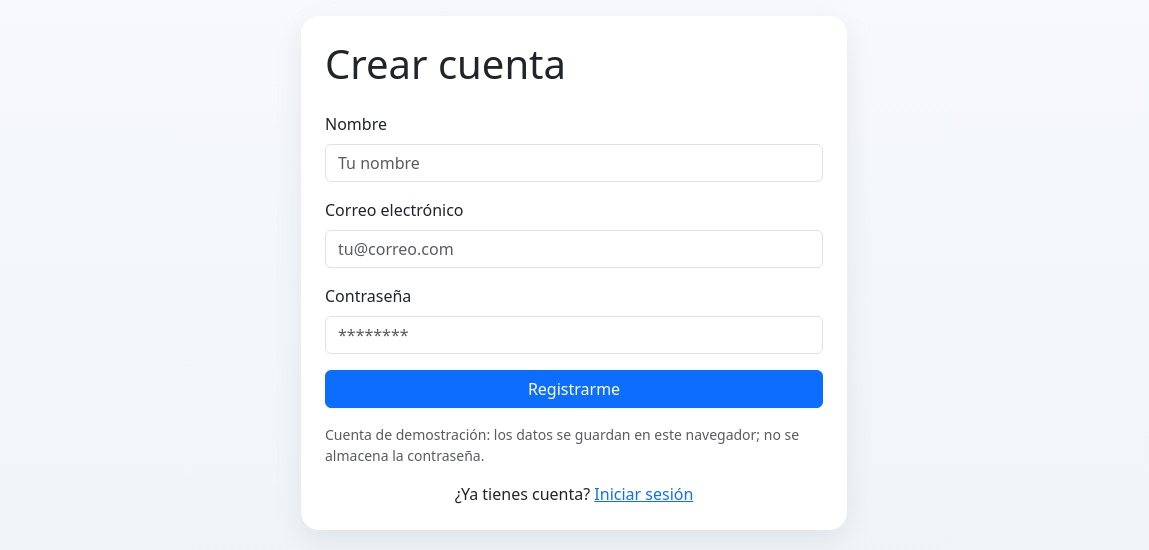
it: Flujos de cuenta, perfil y carrito › registra una cuenta demo y navega al perfil sin guardar la contraseña
Type "  Ana Demo  " into the field labelled "Nombre". click: (574, 163)
box: [325,144,823,182]
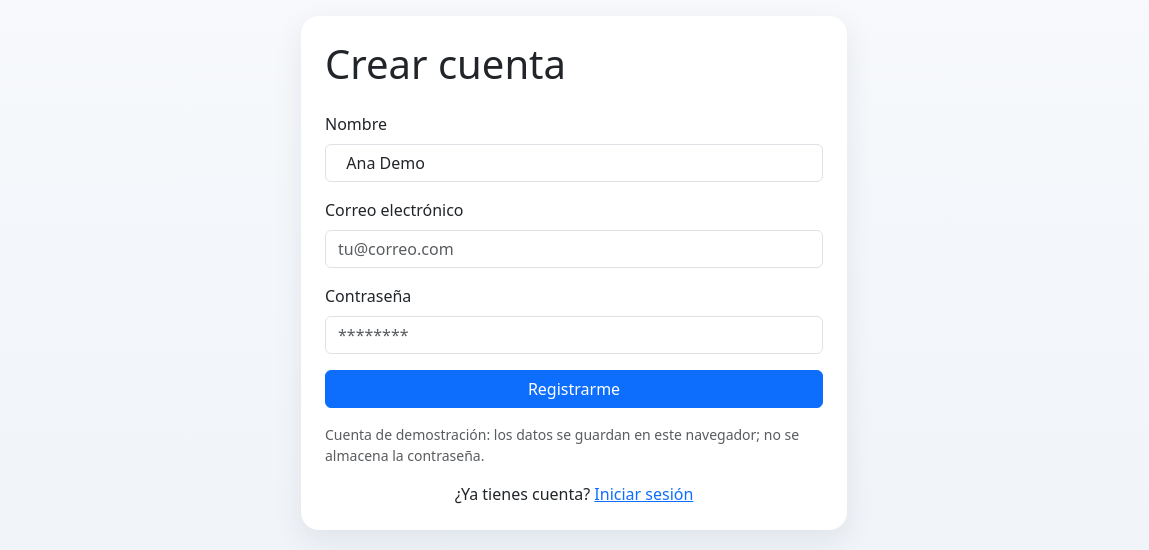
Type "ana@example.com" into the field labelled "Correo electrónico". click: (574, 249)
box: [325,230,823,268]
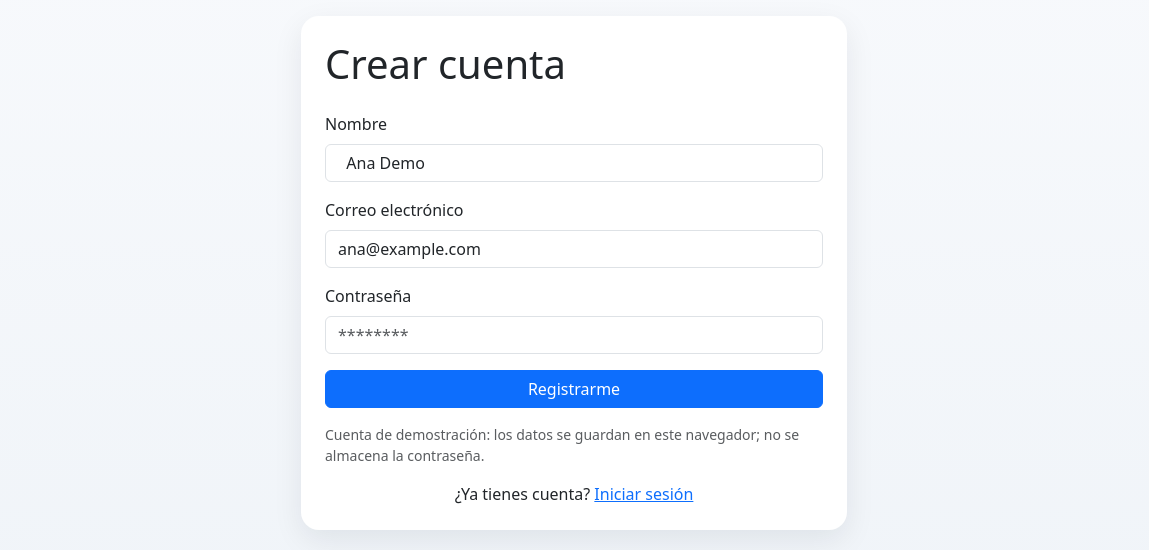
Type "clave-temporal" into the password field labelled "Contraseña". click: (574, 335)
box: [325,316,823,354]
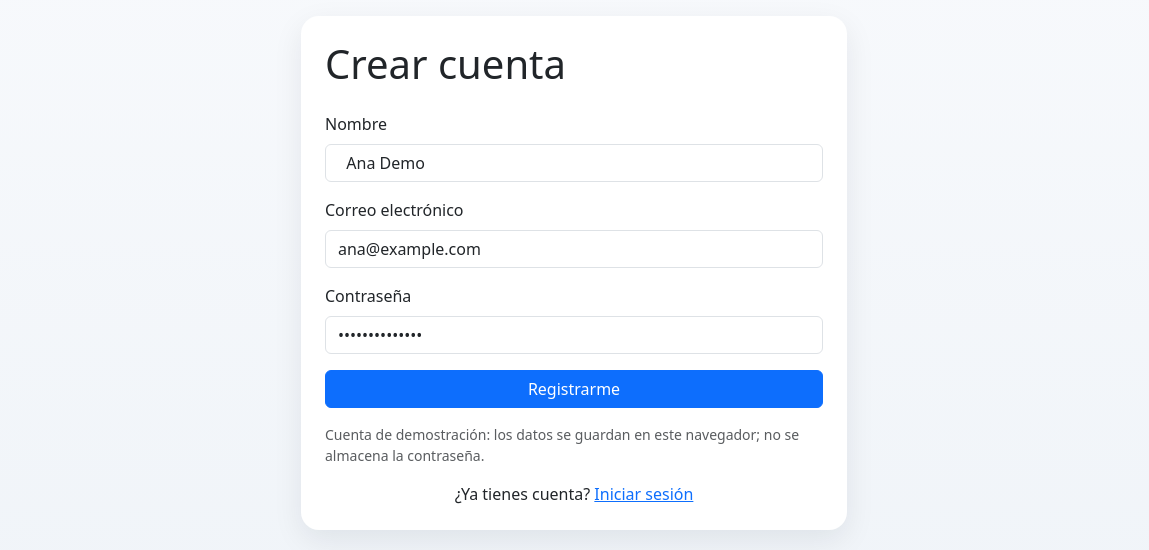
Click the button "Registrarme". click: (574, 389)
box: [325,370,823,408]
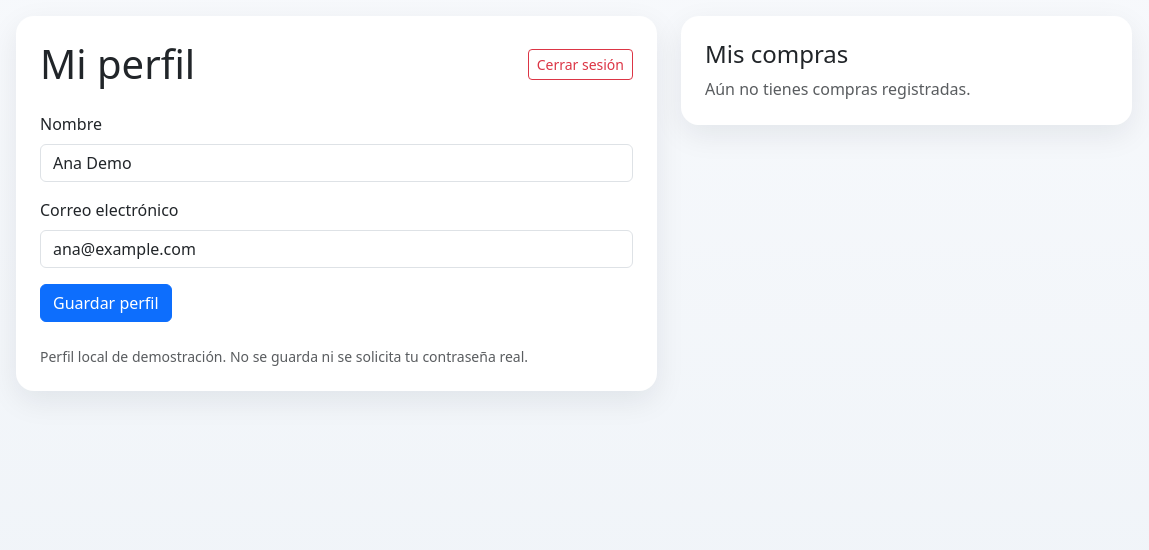
Expected: the heading "Mi perfil" is shown, [40,40,195,88]
